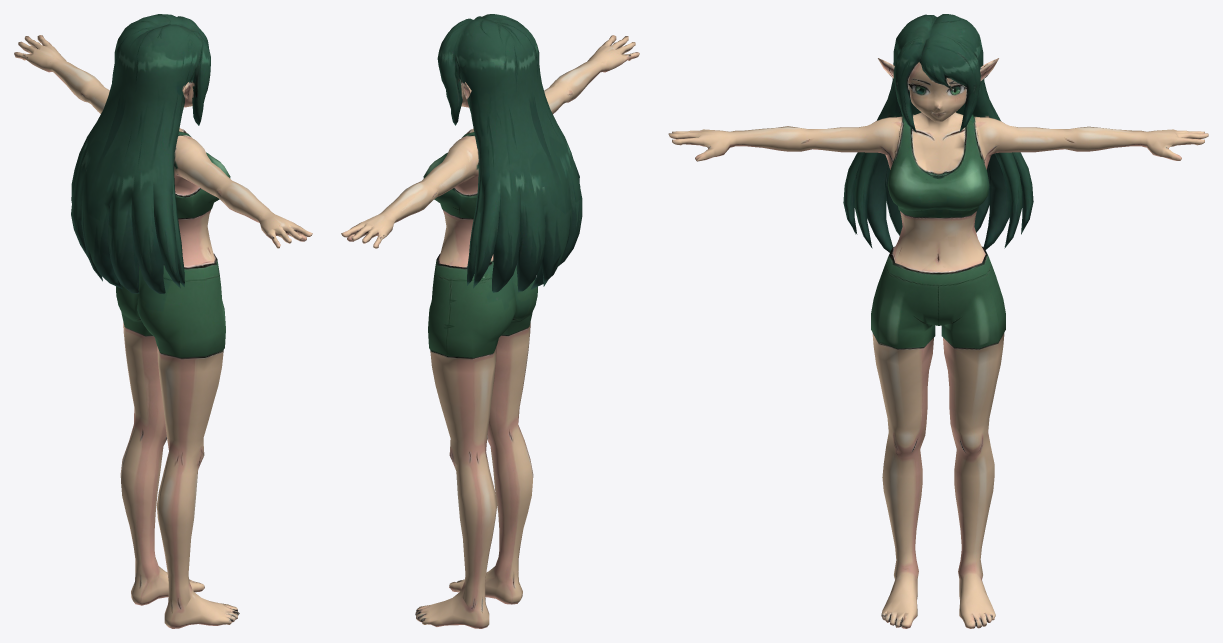
File: naia.fbx
The picture shows the model from 3 angles, left to right: view 1: azimuth 30°, elevation 25°; view 2: azimuth 150°, elevation 25°; view 3: azimuth 270°, elevation 25°; orthographic projection.
Visible parts, largest first — view 1: obj1; view 2: obj1; view 3: obj1.
Boxes of the visible parts, box(x1,y1,x2,y2) form: obj1: box(14, 14, 312, 628); obj1: box(341, 14, 639, 628); obj1: box(668, 14, 1208, 628).
Size of the model in its own units: 23.24 by 99.8 by 83.79.
Materials: 1 (1 with a texture image).
